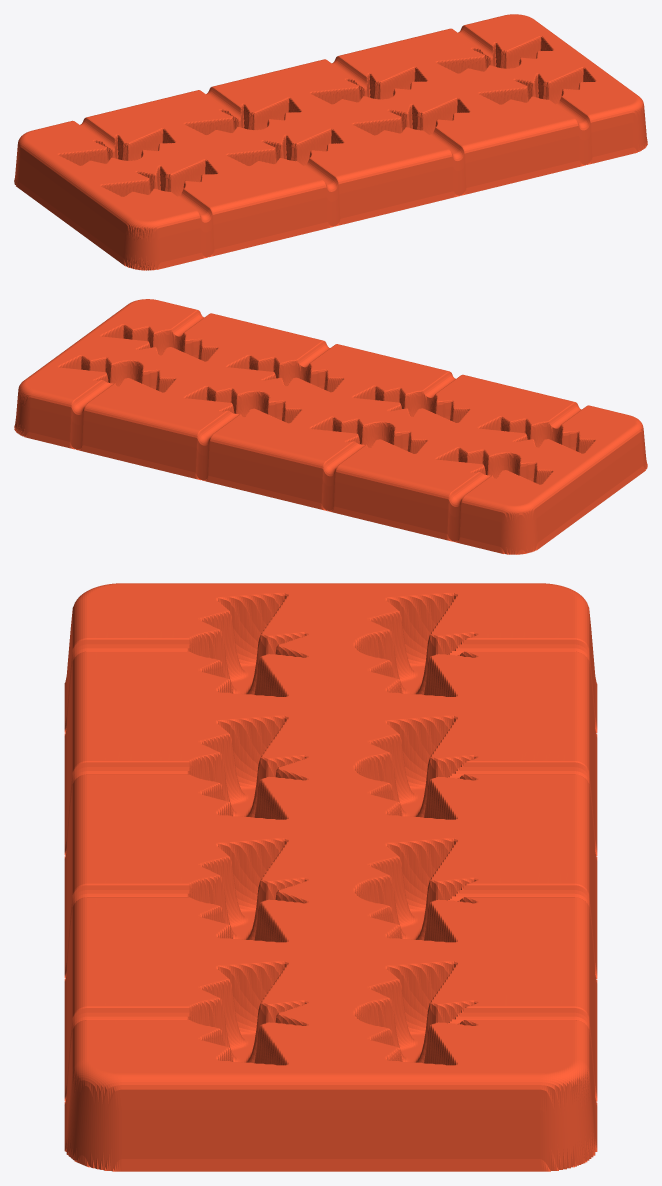
Rendered from mold.glb.
3 views of the same model, one above another, from view 1: azimuth 30°, elevation 25°; view 2: azimuth 150°, elevation 25°; view 3: azimuth 270°, elevation 25° (orthographic). The views are drawn at different scales.
Visible parts, largest first — view 1: geometry_0; view 2: geometry_0; view 3: geometry_0.
Boxes of the visible parts, box(x1,y1,x2,y2) form: geometry_0: box(14, 14, 647, 270); geometry_0: box(14, 299, 647, 554); geometry_0: box(64, 583, 597, 1171).
Size of the model in its own units: 0.1907 by 0.0155 by 0.0845.
